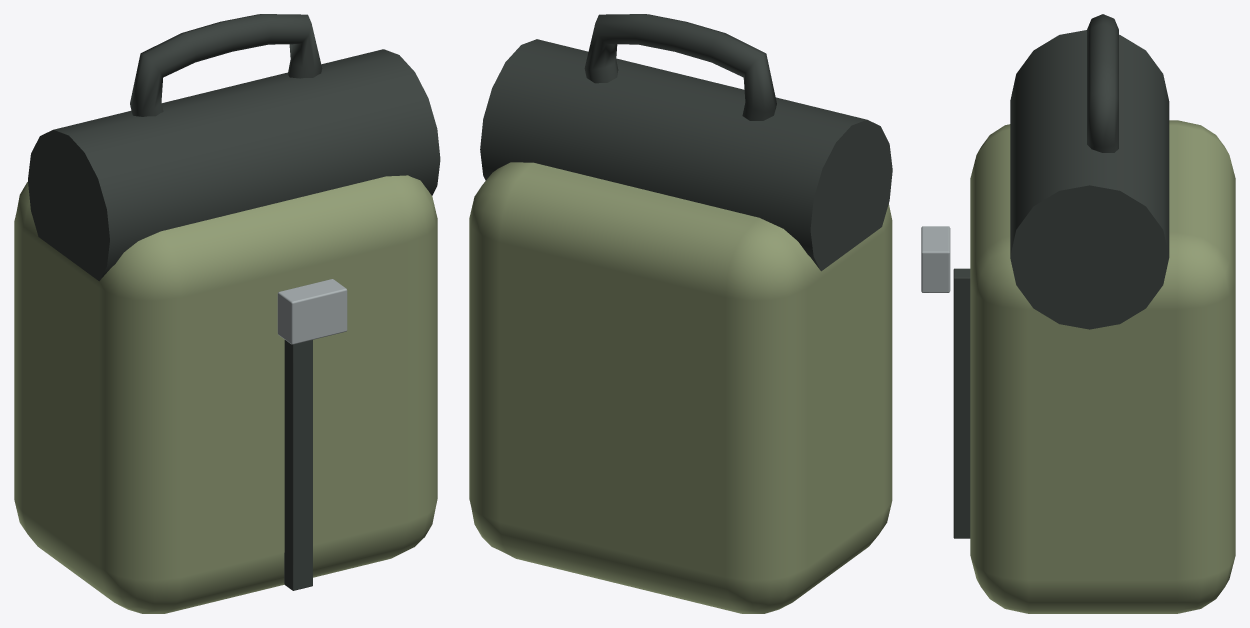
Rendered from backpacks-and-expedition-storage-boot-bag-2e54eb82__21096.glb.
3 renders of one model, left to right at view 1: azimuth 30°, elevation 25°; view 2: azimuth 150°, elevation 25°; view 3: azimuth 270°, elevation 25°, orthographic. The views are drawn at different scales.
Parts seen in each view (by area): view 1: boot-bag; view 2: boot-bag; view 3: boot-bag.
Boxes of the visible parts, <box> form: boot-bag: <box>14,14,440,613</box>; boot-bag: <box>469,14,892,613</box>; boot-bag: <box>921,14,1235,613</box>.
Size of the model in its own units: 0.3212 by 0.4927 by 0.2725.
